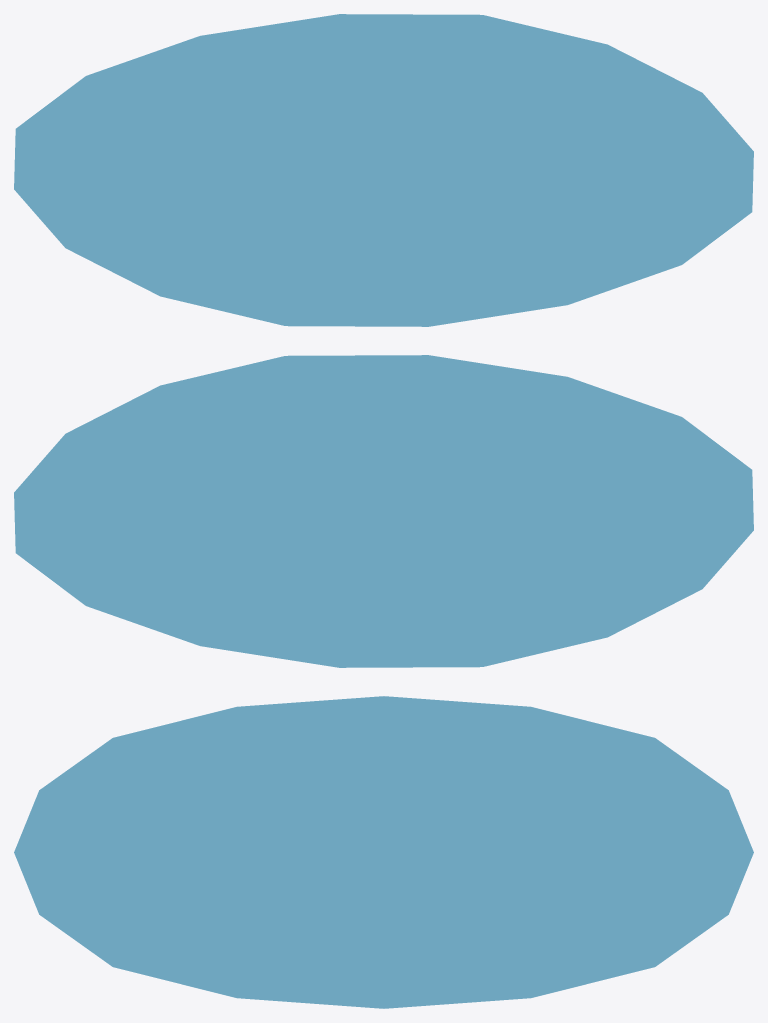
The model's file is island03.fbx.
3 renders of one model, top to bottom at view 1: azimuth 30°, elevation 25°; view 2: azimuth 150°, elevation 25°; view 3: azimuth 270°, elevation 25°, orthographic.
Parts seen in each view (by area): view 1: Plane; view 2: Plane; view 3: Plane.
Boxes of the visible parts, <box> form: Plane: <box>14,14,753,326</box>; Plane: <box>14,355,753,667</box>; Plane: <box>14,696,753,1008</box>.
Size of the model in its own units: 99.55 by 99.55 by 0.
